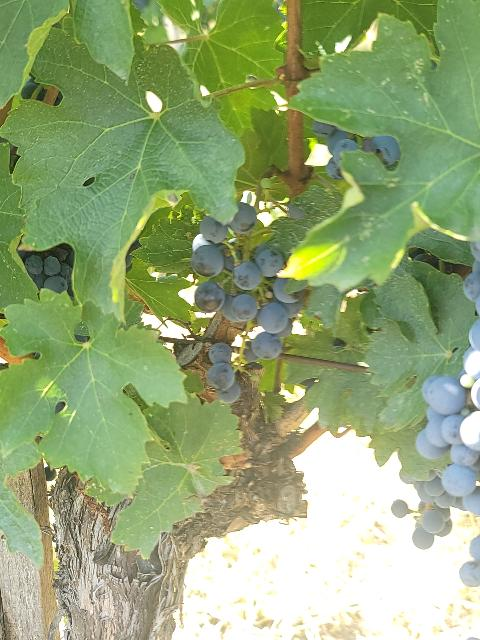grapes: (190, 201, 302, 360)
